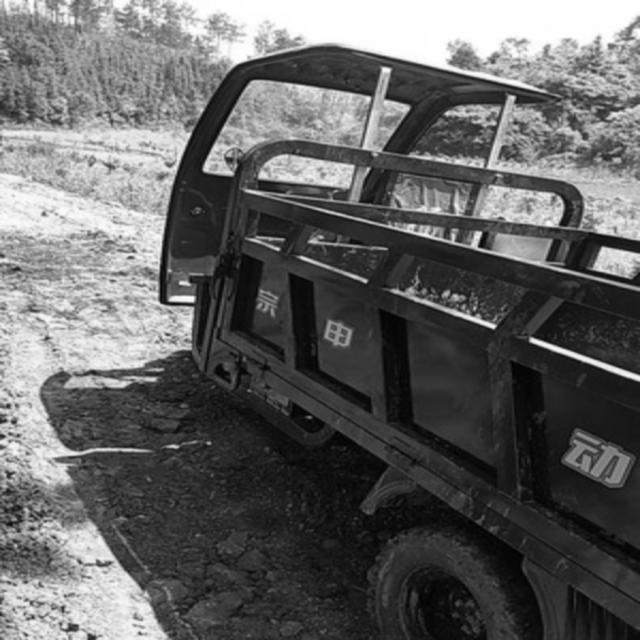tricycle: (153, 40, 638, 635)
